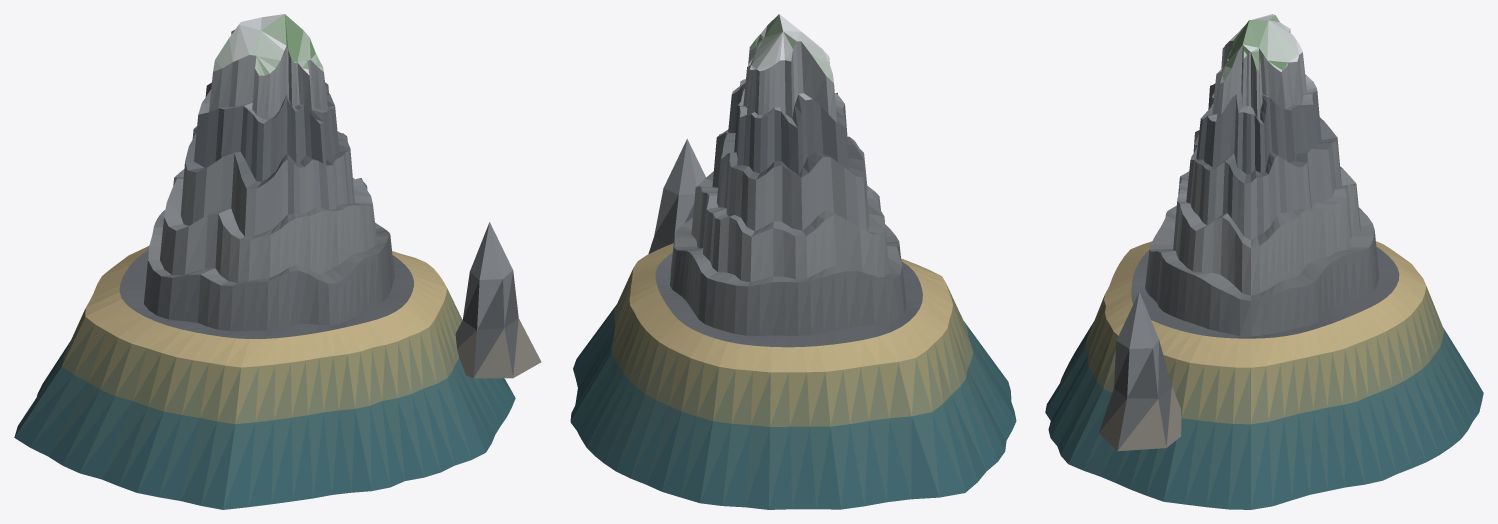
The model's file is islet_07.glb.
3 views of the same model, side by side, from view 1: azimuth 30°, elevation 25°; view 2: azimuth 150°, elevation 25°; view 3: azimuth 270°, elevation 25° (orthographic).
Visible parts, largest first — view 1: islet_07; view 2: islet_07; view 3: islet_07.
Boxes of the visible parts, box(x1,y1,x2,y2) form: islet_07: box(14, 14, 541, 509); islet_07: box(570, 14, 1016, 509); islet_07: box(1045, 14, 1483, 509).
Size of the model in its own units: 17.69 by 16.02 by 15.73.
